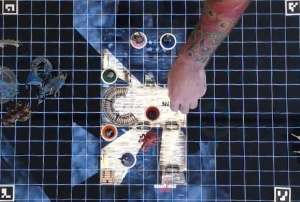blue: (160, 32, 177, 51)
green: (101, 67, 118, 83)
orange: (100, 123, 118, 140)
pink: (130, 28, 149, 50)
red: (146, 105, 162, 121)
violet: (118, 150, 137, 170)
